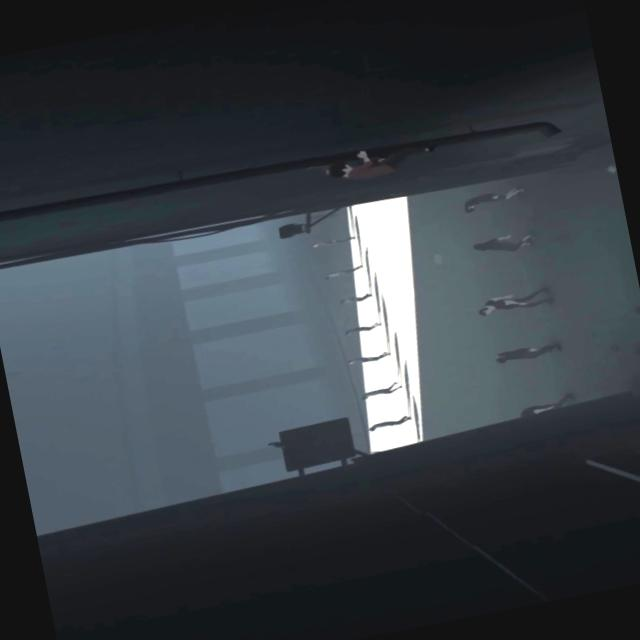boy: (323, 137, 440, 186)
zombie: (476, 286, 554, 317), (500, 394, 573, 421), (493, 340, 561, 366), (460, 186, 524, 213), (470, 232, 535, 258), (344, 350, 394, 368), (360, 380, 402, 400), (370, 414, 412, 432), (311, 235, 355, 249), (340, 322, 381, 337), (324, 266, 362, 280), (338, 293, 373, 306)
